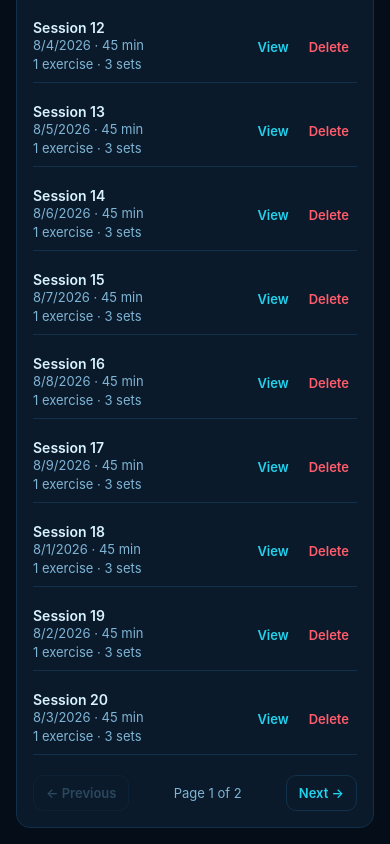
Test: keeps the current page when tabbing away and back
(page scrolled)
Expected: the text "Page 1 of 2" is shown, x1=174 y1=785 x2=242 y2=801
Click the button "Next →".
click(321, 793)  # box x1=286 y1=775 x2=357 y2=811
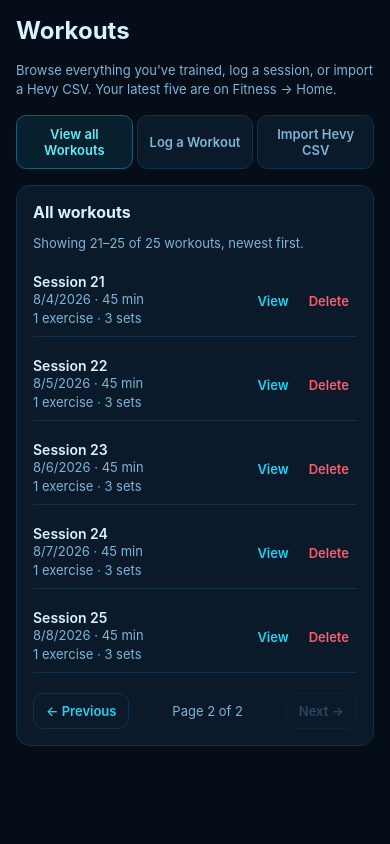
Click the tab "Log a Workout".
click(195, 142)  # box x1=137 y1=115 x2=253 y2=169
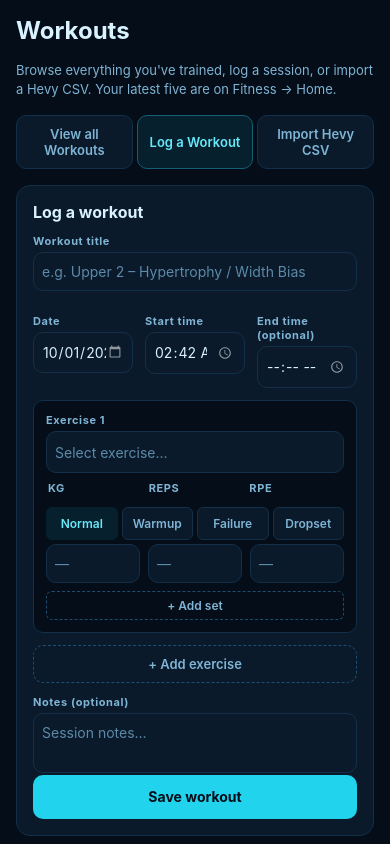
Click the tab "View all Workouts".
click(74, 142)  # box x1=16 y1=115 x2=133 y2=169
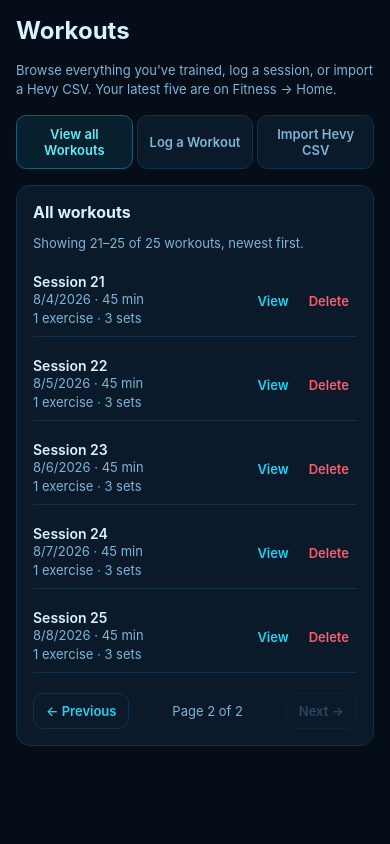
Expected: the text "Page 2 of 2" is shown, x1=172 y1=703 x2=243 y2=719
